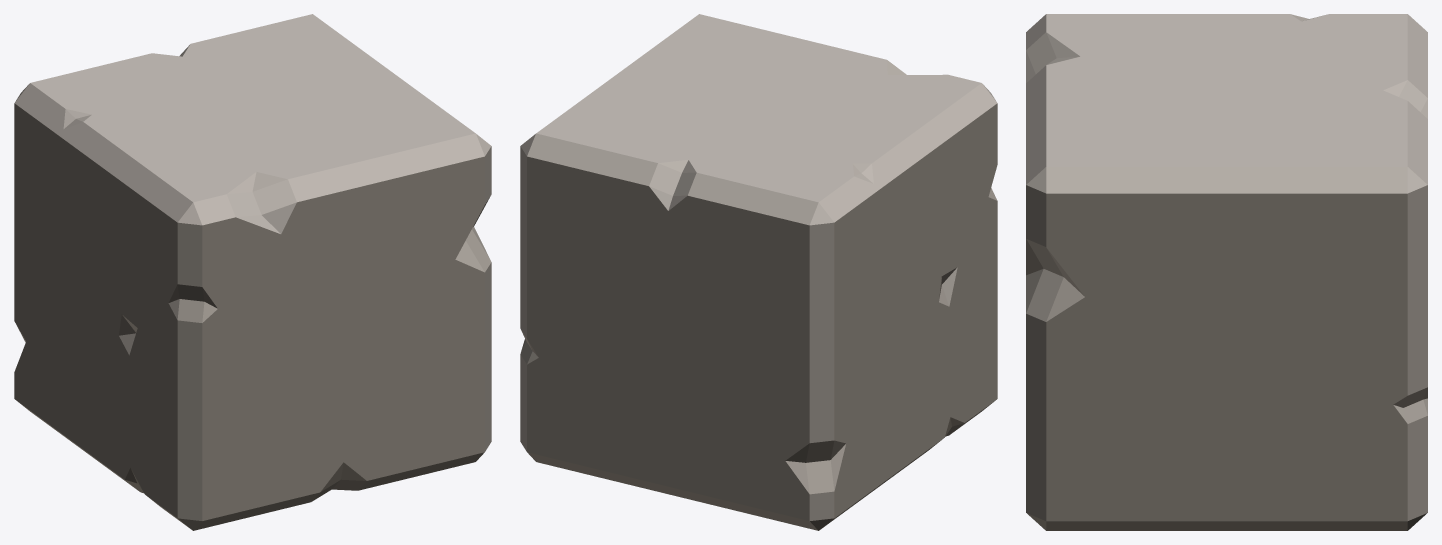
The model's file is m_kub_stone_cubeBig.FBX.
3 renders of one model, left to right at view 1: azimuth 30°, elevation 25°; view 2: azimuth 150°, elevation 25°; view 3: azimuth 270°, elevation 25°, orthographic. The views are drawn at different scales.
Visible parts, largest first — view 1: m_kub_stone_cubeBig; view 2: m_kub_stone_cubeBig; view 3: m_kub_stone_cubeBig.
Part boxes in pixels (x1,y1,x2,y2): m_kub_stone_cubeBig: (14, 14, 491, 530); m_kub_stone_cubeBig: (520, 14, 997, 530); m_kub_stone_cubeBig: (1026, 14, 1427, 530).
Size of the model in its own units: 2 by 2 by 2.
